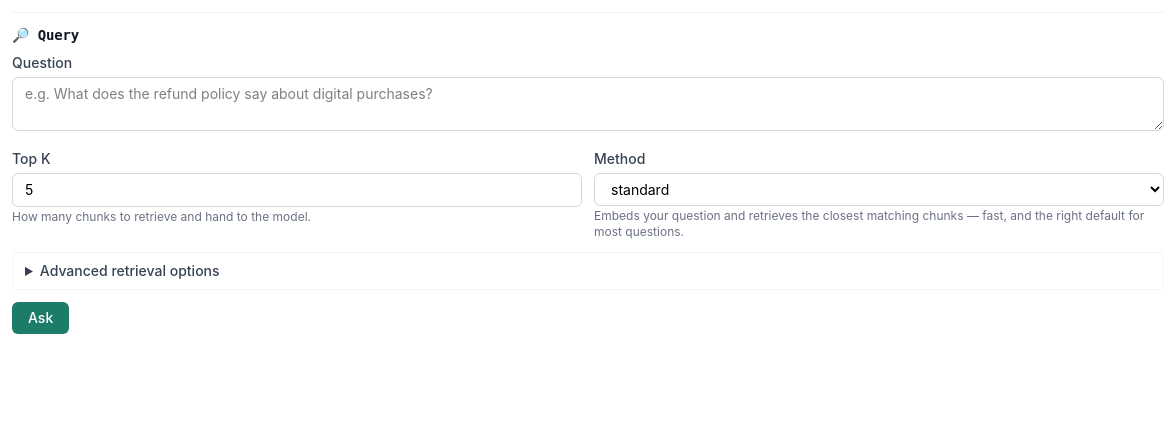
Test: QueryPanel › submits the default top_k and method
Replace the text in the text box labelled "Question" with "What is the refund policy?" at [588, 104], box [12, 77, 1164, 131]
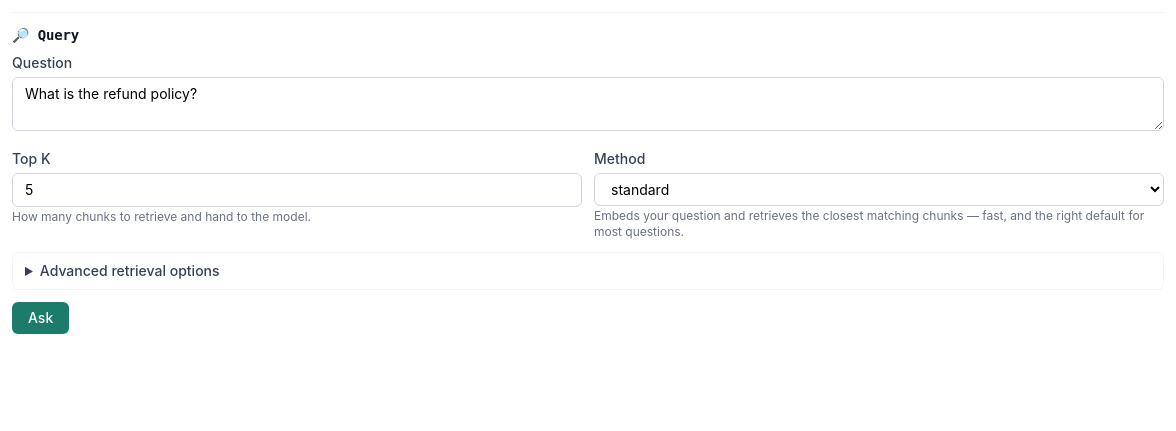
Click the button "Ask" at [41, 318], box [12, 302, 69, 334]
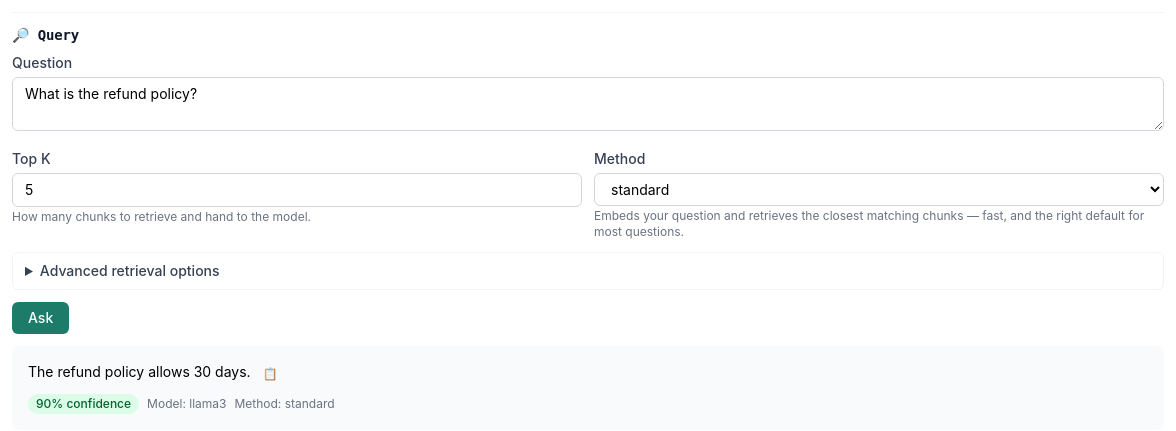
Now the text "The refund policy allows 30 days." is shown, box [28, 362, 251, 382]
